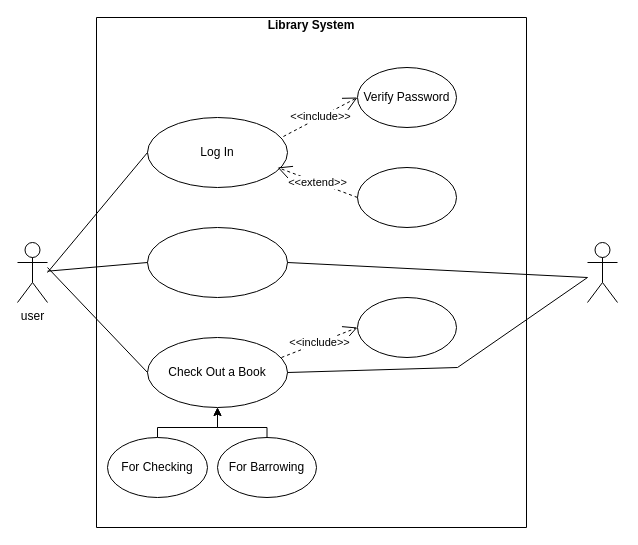
Some shapes in this 638 by 545 pixel diagram are drawn without their labels. The shapes that lost their labels are listed below. From the top down, each one's centre as x and y in pixels, then its label:
the point at 406,197: Display Login Error
the point at 217,262: Give Back the Book
the point at 602,272: Library
the point at 406,327: Verify Sufficient Credit For Barrowing
